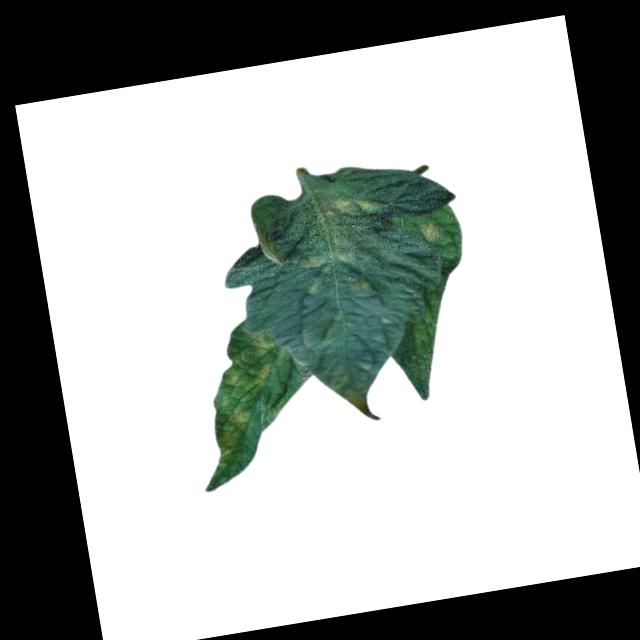Leaf_Mold: (198, 322, 304, 479), (289, 187, 391, 275), (414, 216, 443, 247)
